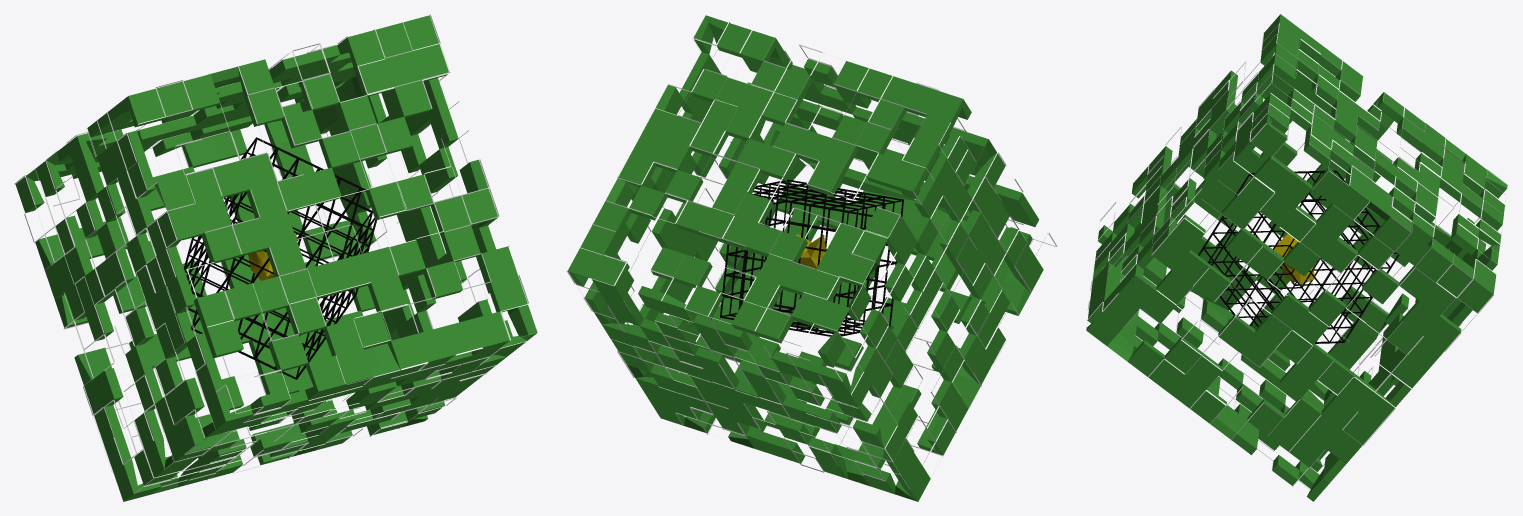
The model's file is Planet23.glb.
3 renders of one model, left to right at view 1: azimuth 30°, elevation 25°; view 2: azimuth 150°, elevation 25°; view 3: azimuth 270°, elevation 25°, orthographic. The views are drawn at different scales.
Visible parts, largest first — view 1: Planet_23_fix (NoChange); view 2: Planet_23_fix (NoChange); view 3: Planet_23_fix (NoChange).
Boxes of the visible parts, x1,y1,x2,y2 form: Planet_23_fix (NoChange): (14, 14, 537, 501); Planet_23_fix (NoChange): (566, 14, 1057, 501); Planet_23_fix (NoChange): (1086, 14, 1508, 501).
Bounding box in the file's own units: 2.48 × 3.34 × 3.34.
